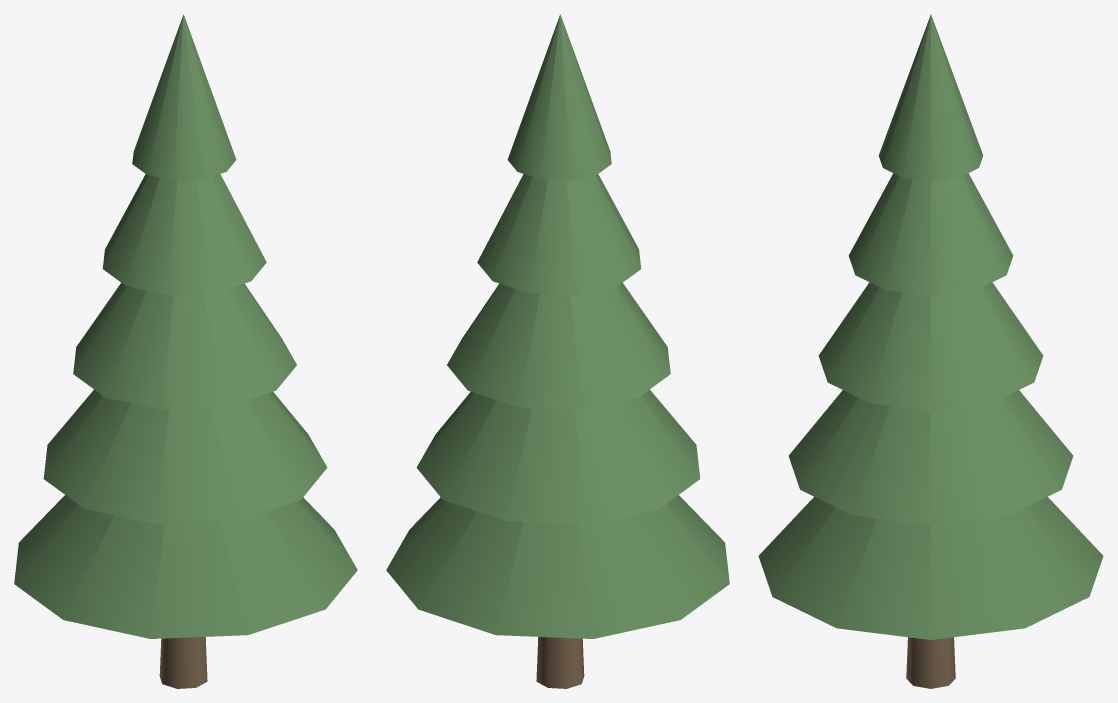
File: pine-tree.gltf
3 renders of one model, left to right at view 1: azimuth 30°, elevation 25°; view 2: azimuth 150°, elevation 25°; view 3: azimuth 270°, elevation 25°, orthographic.
Parts seen in each view (by area): view 1: pine-tree; view 2: pine-tree; view 3: pine-tree.
Part boxes in pixels (<box>): pine-tree: <box>14,14,357,688</box>; pine-tree: <box>386,14,729,688</box>; pine-tree: <box>758,14,1103,688</box>.
Bounding box in the file's own units: 3.04 × 6.52 × 3.07.
